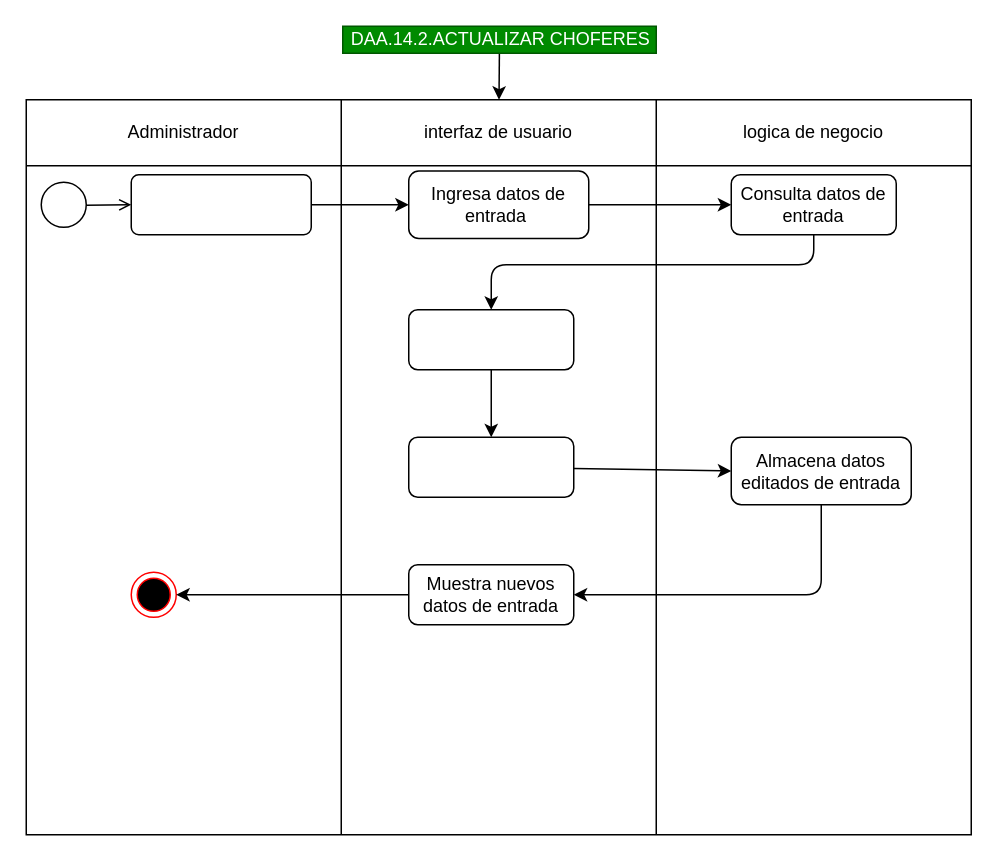
This 998x861 diagram has some shape labels left out. The centre of each missing label's shape, as x and y in pixels:
Edita datos de entrada: [490,466]
Ingresa un chofer: [220,204]
Muestra datos de entrada: [490,339]
